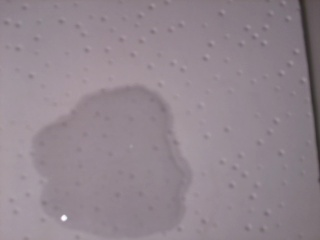Water_detected: (56, 107, 170, 207)
